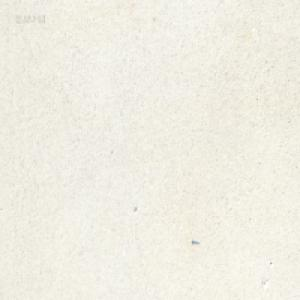Nail: (191, 238, 199, 244)
